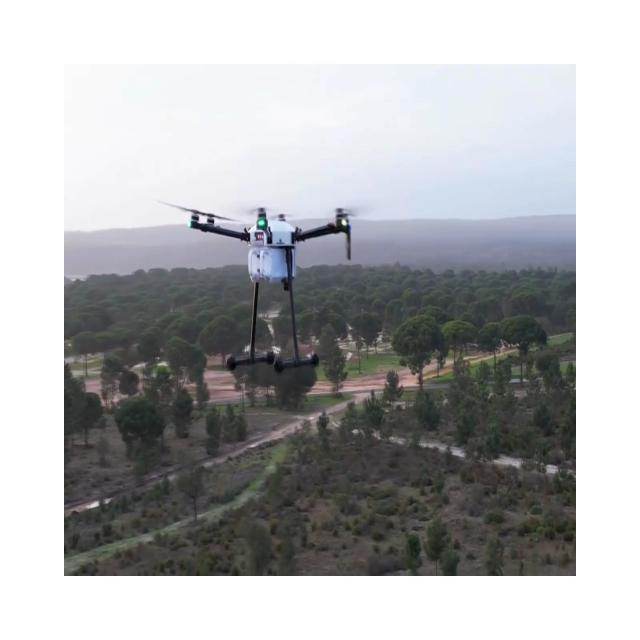drone: (156, 198, 358, 374)
